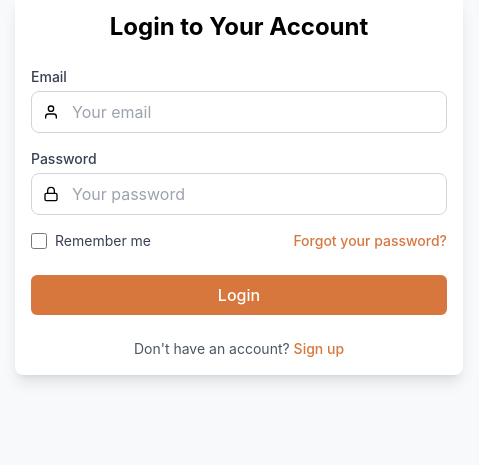
Scenario: Login Component › LoginForm Component › displays error message when login fails
// Fill in the form
Type "test@example.com" into the field labelled "Email".
click(239, 112); type("test@example.com")  # box [31,91,447,133]
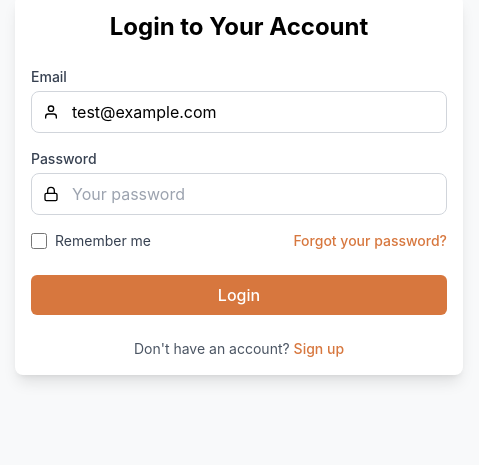
Type "wrongpassword" into the password field labelled "Password".
click(239, 194); type("wrongpassword")  # box [31,173,447,215]
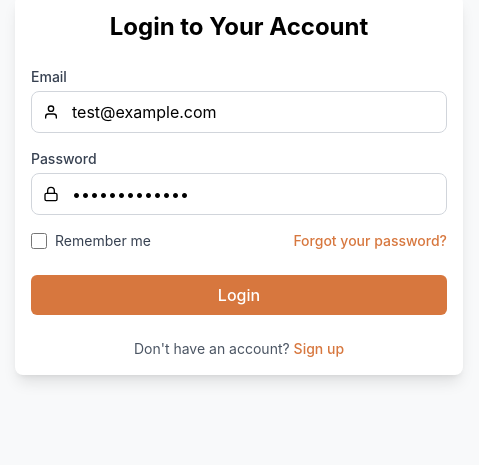
// Submit the form
Click the button "Login".
click(239, 295)  # box [31,275,447,315]
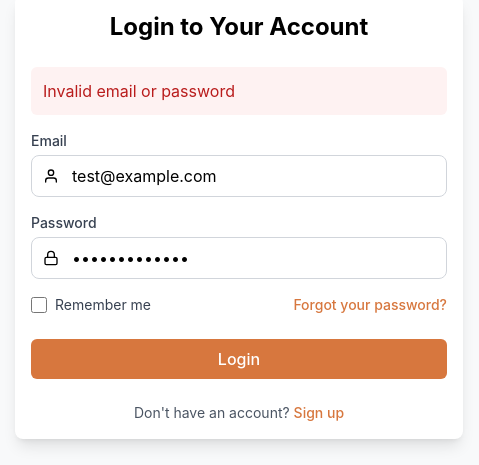
Now the text "Invalid email or password" is shown, box [31,67,447,115]
